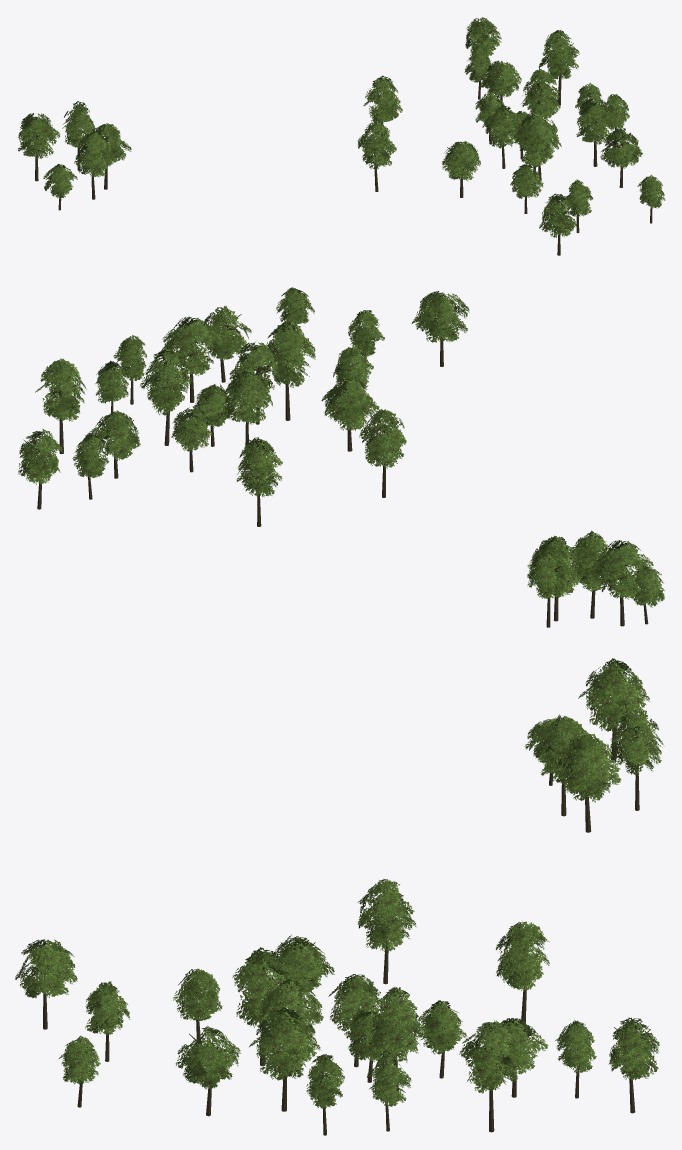
The model's file is TRB8-FOREST-CHUNK-6-6.glb.
The picture shows the model from 3 angles, top to bottom: view 1: azimuth 30°, elevation 25°; view 2: azimuth 150°, elevation 25°; view 3: azimuth 270°, elevation 25°; orthographic projection. The views are drawn at different scales.
Parts seen in each view (by area): view 1: TRB8-FOREST-CHUNK-6-6; view 2: TRB8-FOREST-CHUNK-6-6; view 3: TRB8-FOREST-CHUNK-6-6.
Boxes of the visible parts, <box> form: TRB8-FOREST-CHUNK-6-6: <box>17,17,665,255</box>; TRB8-FOREST-CHUNK-6-6: <box>18,287,664,627</box>; TRB8-FOREST-CHUNK-6-6: <box>15,658,664,1135</box>.
Bounding box in the file's own units: 43.41 × 7.01 × 31.28.
Materials: 2 (1 with a texture image).
